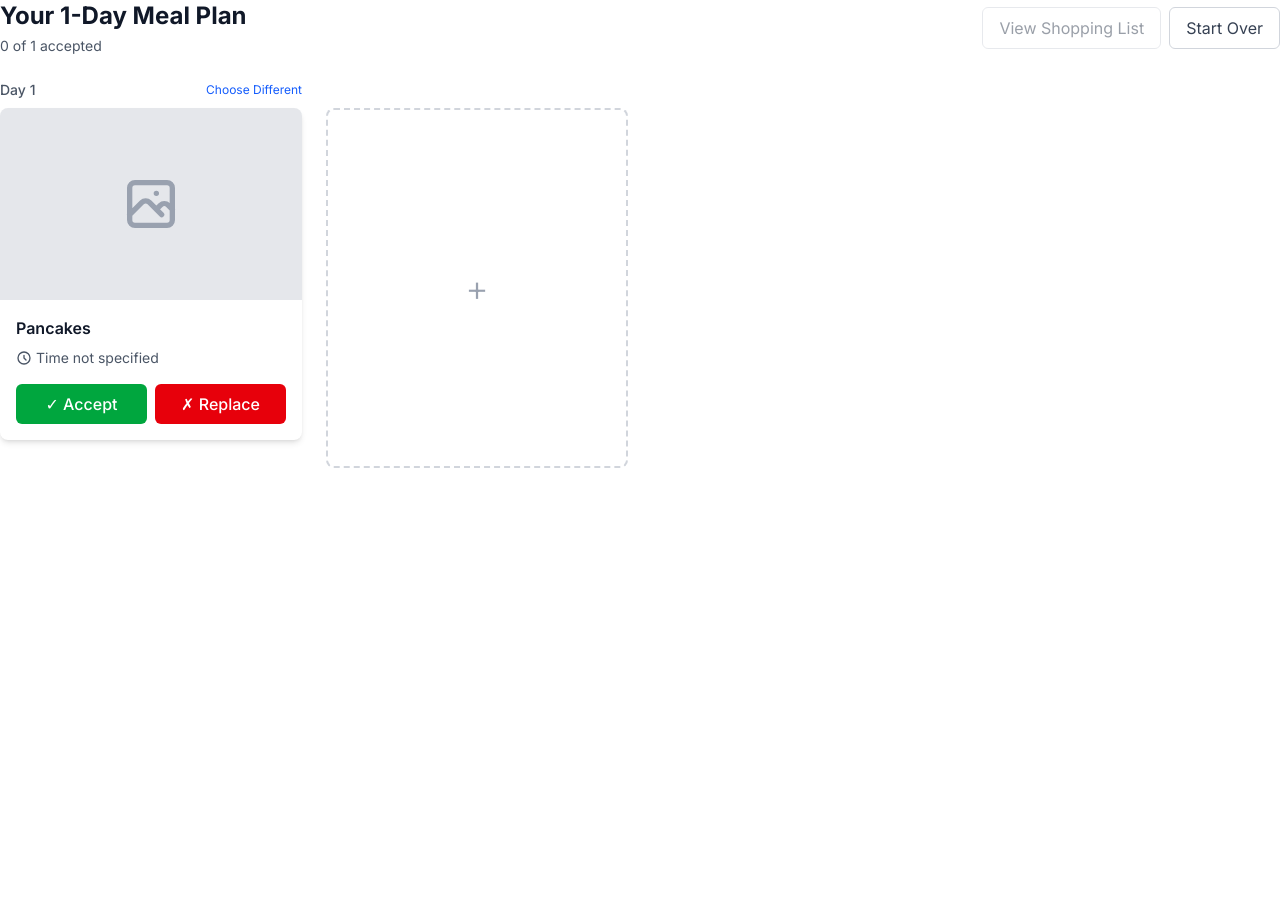
Test case: MealPlanView shopping list integration › fetches and displays the shopping list when the button is clicked
Accept the recipe so the shopping list button is enabled
Click the button "✓ Accept".
click(82, 404)  # box [16, 384, 147, 424]
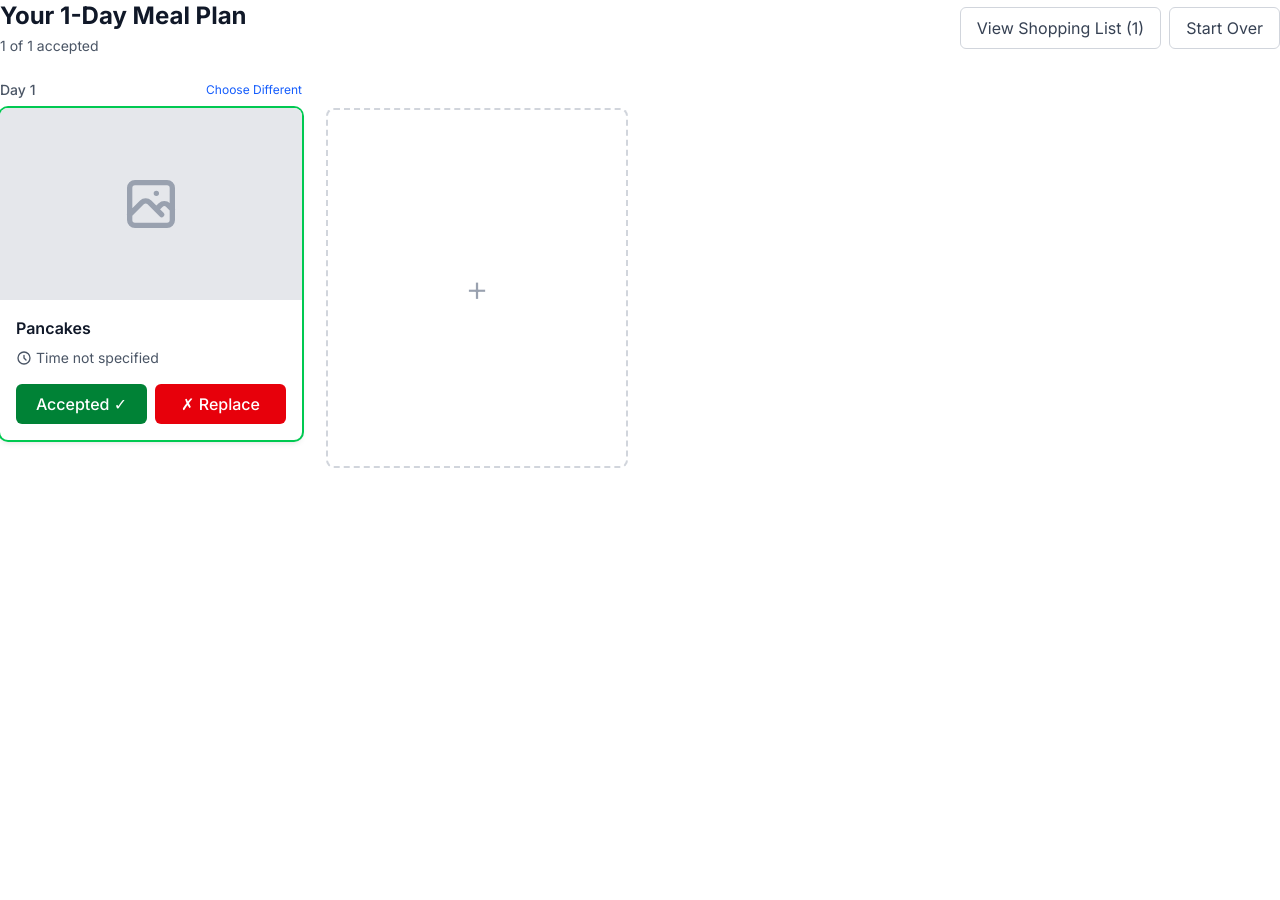
Check: the text "1 of 1 accepted" is shown, box [0, 37, 99, 54]
Click the button "View Shopping List (1)".
click(1060, 28)  # box [960, 7, 1161, 49]
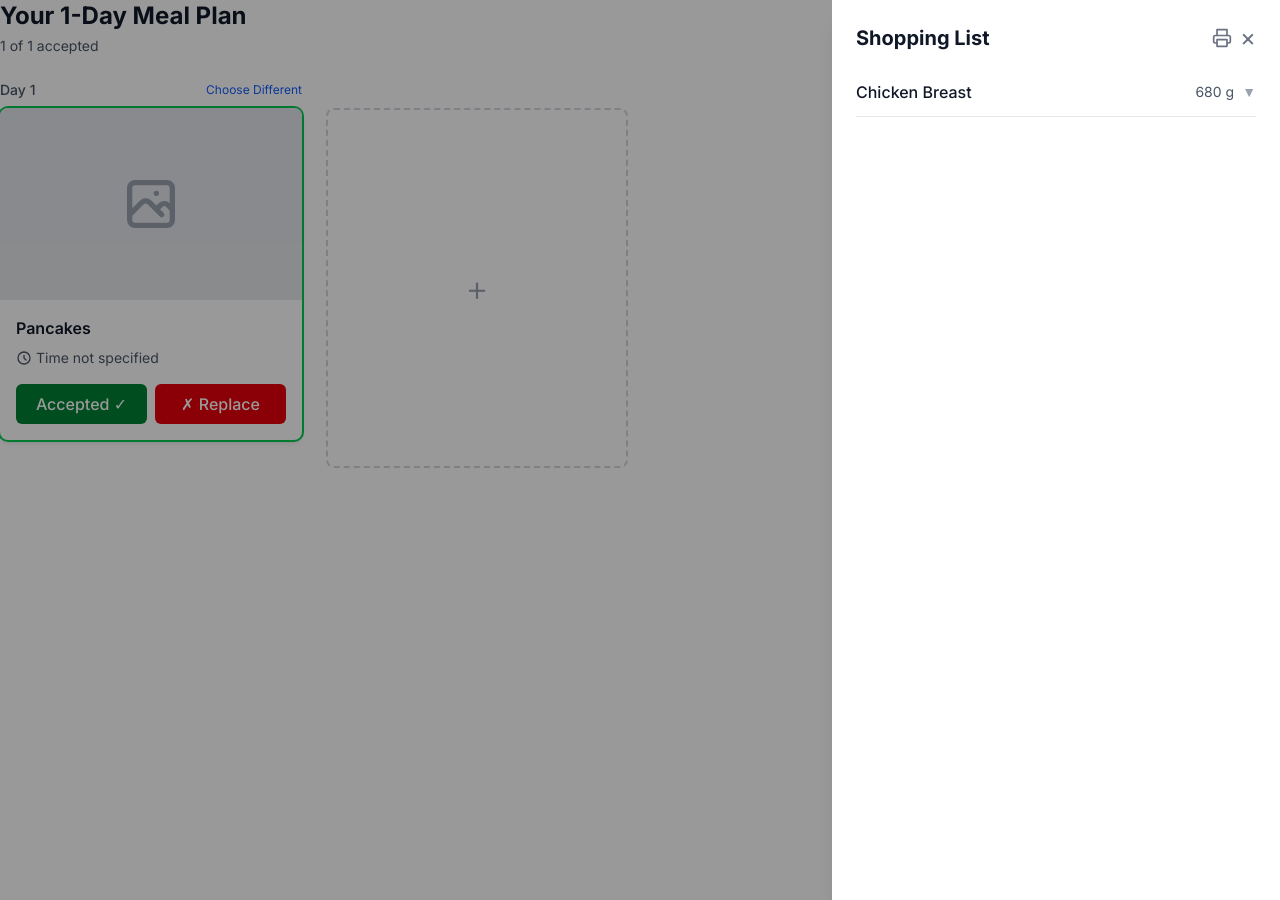
Check: the text "chicken breast" is shown, box [856, 80, 972, 104]
